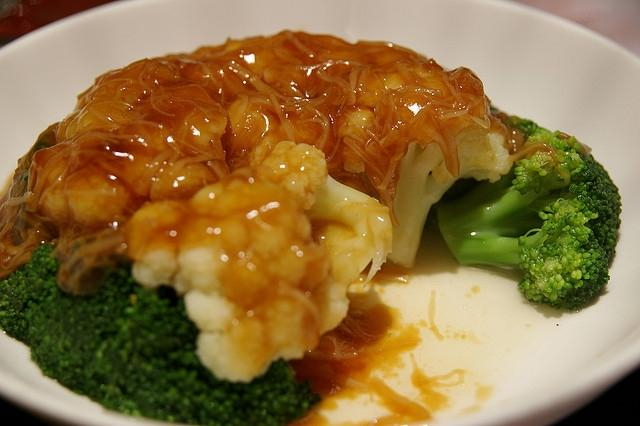broccoli: (432, 114, 622, 310), (82, 286, 322, 425), (24, 269, 144, 395), (0, 243, 59, 346)
cauliflower: (25, 31, 513, 268), (125, 141, 393, 384)
